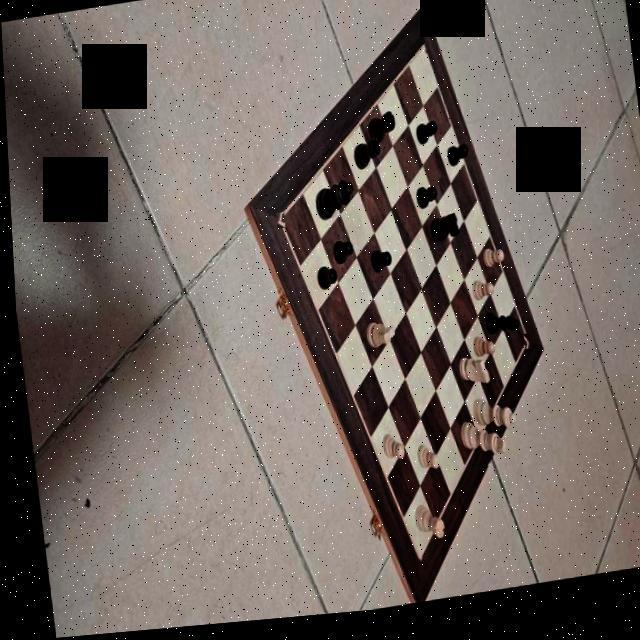chess-table-corners: (272, 216, 282, 234), (406, 557, 416, 574), (417, 46, 427, 62), (518, 342, 526, 358)
